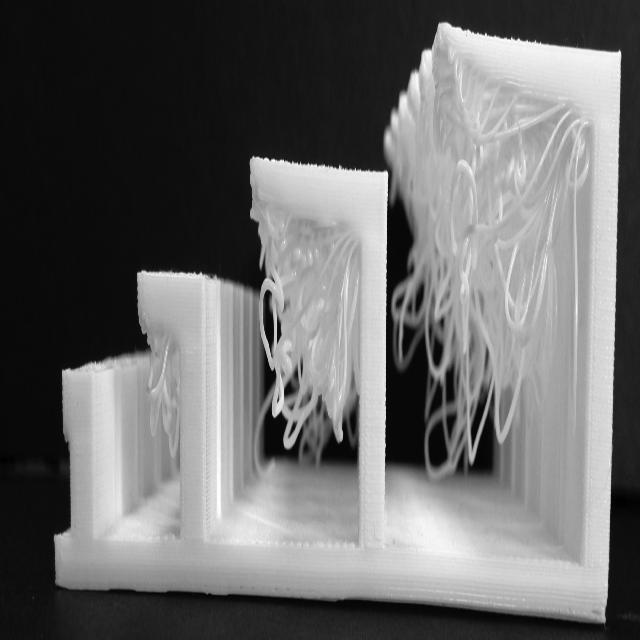spaghetti: (390, 119, 587, 525), (246, 207, 363, 511), (140, 326, 187, 515)
